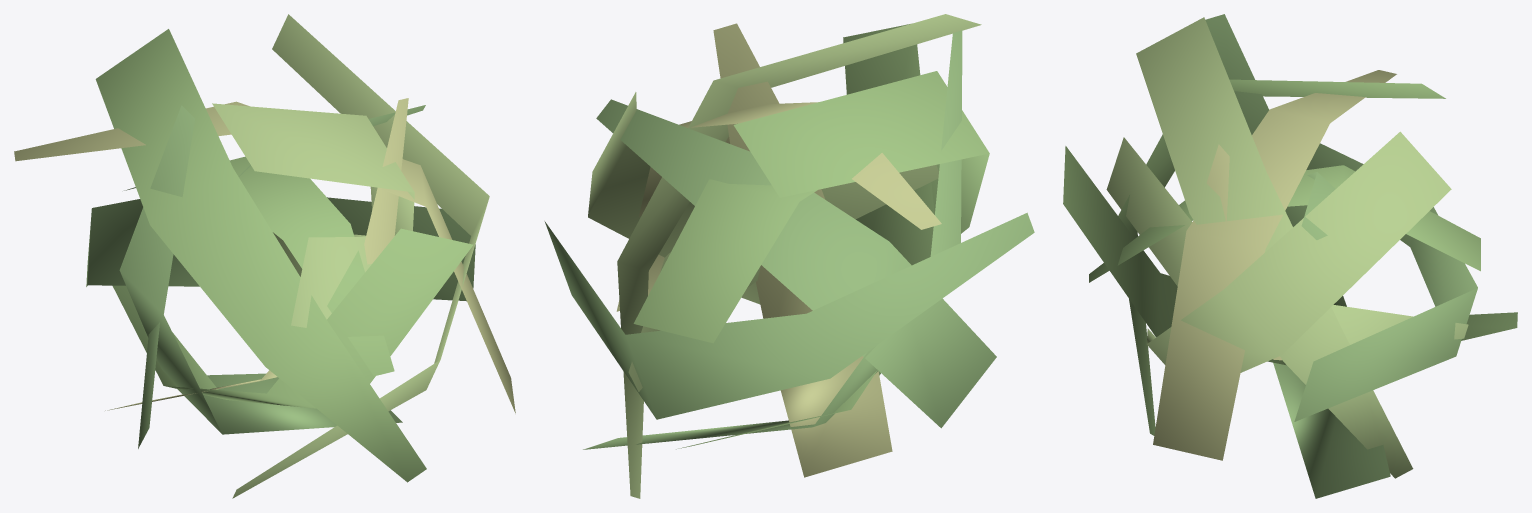
File: fx_clump.gltf
The picture shows the model from 3 angles, left to right: view 1: azimuth 30°, elevation 25°; view 2: azimuth 150°, elevation 25°; view 3: azimuth 270°, elevation 25°; orthographic projection. The views are drawn at different scales.
Parts seen in each view (by area): view 1: fx_clump; view 2: fx_clump; view 3: fx_clump.
Part boxes in pixels (x1=…): fx_clump: x1=14, y1=14, x2=515, y2=498; fx_clump: x1=544, y1=14, x2=1034, y2=498; fx_clump: x1=1063, y1=14, x2=1517, y2=498.
Bounding box in the file's own units: 0.1673 × 0.1612 × 0.1741.
